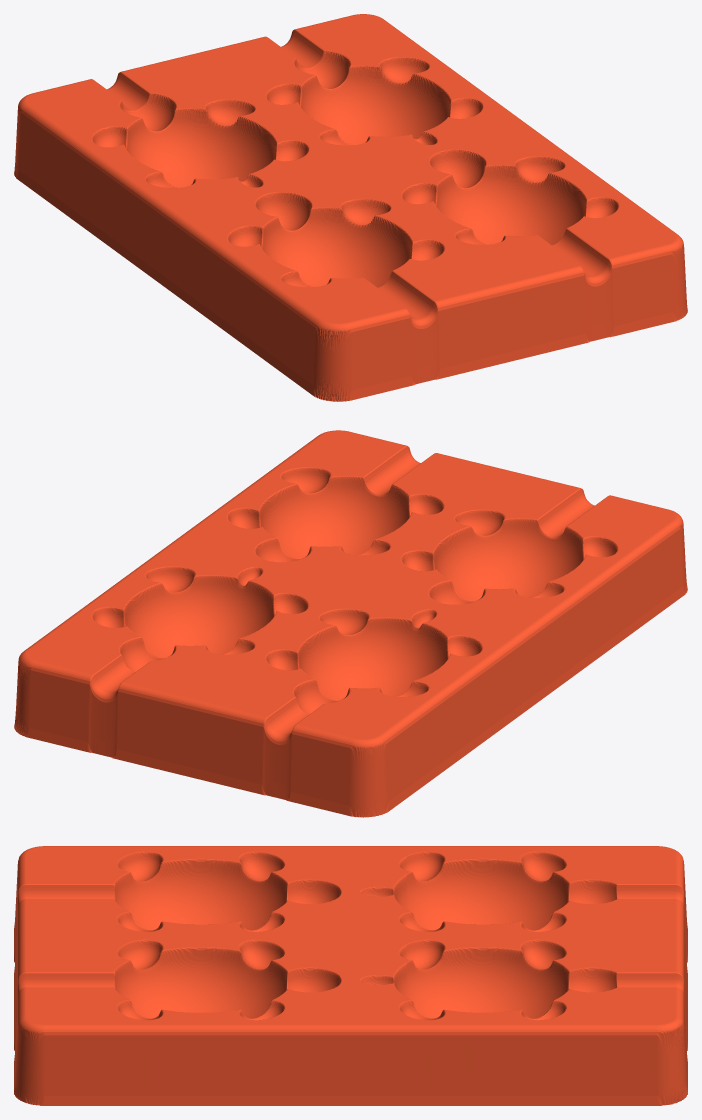
The model's file is mold.glb.
The picture shows the model from 3 angles, top to bottom: view 1: azimuth 30°, elevation 25°; view 2: azimuth 150°, elevation 25°; view 3: azimuth 270°, elevation 25°; orthographic projection. The views are drawn at different scales.
Visible parts, largest first — view 1: geometry_0; view 2: geometry_0; view 3: geometry_0.
Boxes of the visible parts, x1,y1,x2,y2 form: geometry_0: (14,14,687,401); geometry_0: (14,430,687,817); geometry_0: (14,846,687,1105).
Size of the model in its own units: 0.1301 by 0.0245 by 0.1968.
